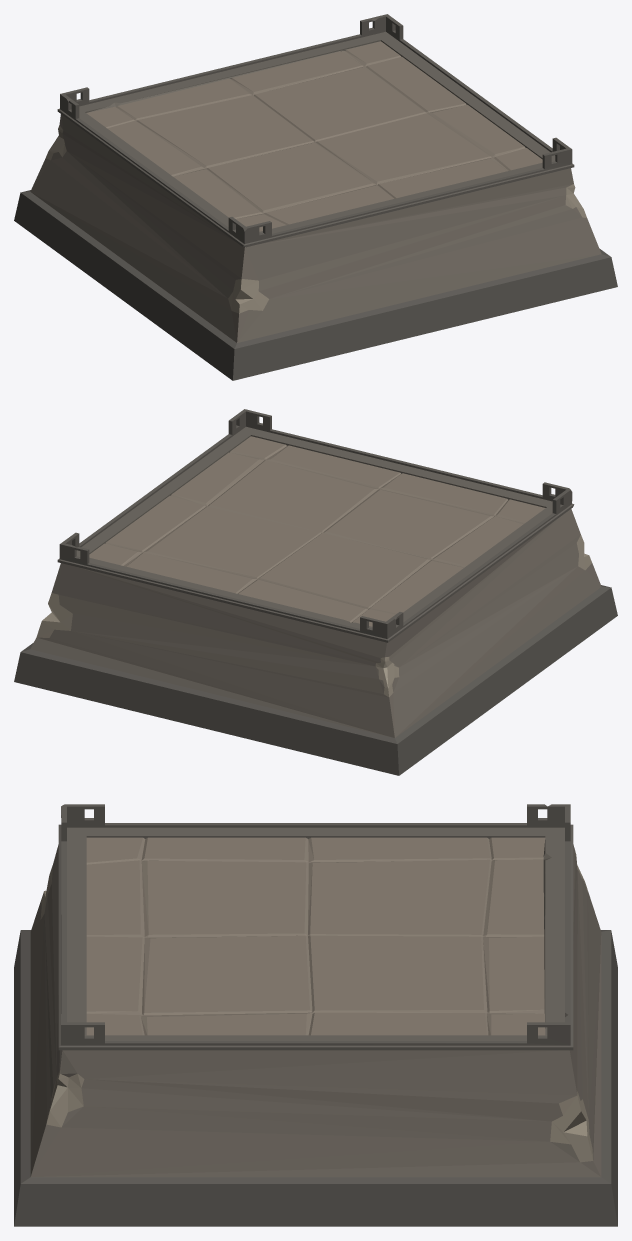
File: SM_Bld_Fort_Base_01.glb
3 views of the same model, one above another, from view 1: azimuth 30°, elevation 25°; view 2: azimuth 150°, elevation 25°; view 3: azimuth 270°, elevation 25° (orthographic). The views are drawn at different scales.
Parts seen in each view (by area): view 1: SM_Bld_Fort_Base_01_part00; view 2: SM_Bld_Fort_Base_01_part00; view 3: SM_Bld_Fort_Base_01_part00.
Boxes of the visible parts, box(x1,y1,x2,y2) form: SM_Bld_Fort_Base_01_part00: box(14, 14, 617, 380); SM_Bld_Fort_Base_01_part00: box(14, 409, 617, 775); SM_Bld_Fort_Base_01_part00: box(14, 804, 617, 1226).
Bounding box in the file's own units: 34.97 × 11.48 × 34.42.
1 material, 1 textured.
